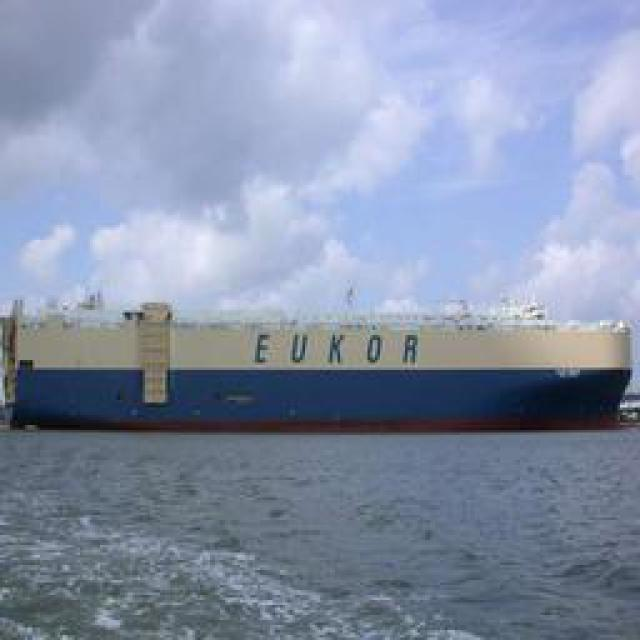Ship: (7, 301, 635, 441)
